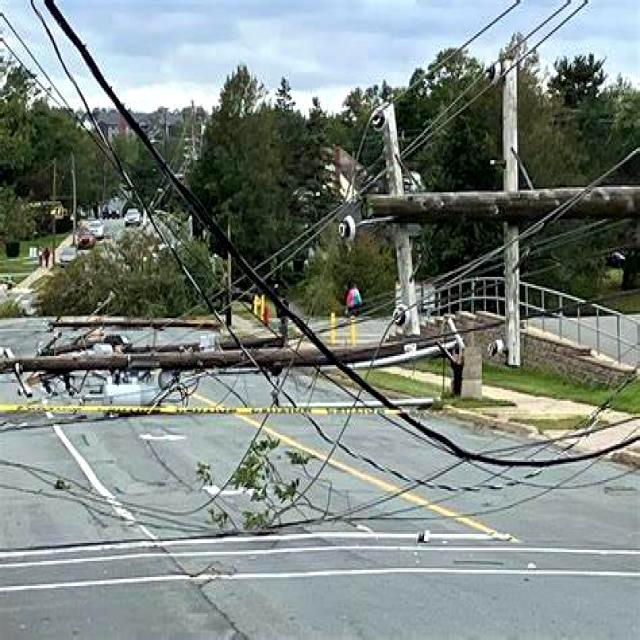Broken Pole: (368, 84, 640, 372), (28, 292, 470, 432)
